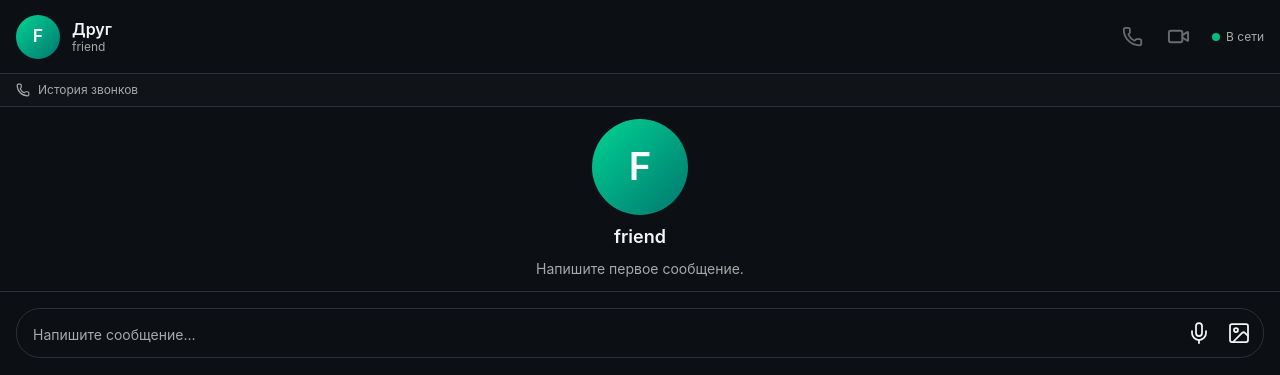
conversation › can drop an unsent message
This screenshot has width=1280, height=375.
Step 1. Type "спам" into the text box labelled "сообщение" → {"x": 604, "y": 335}, box [33,321,1175,349]
Then press Enter
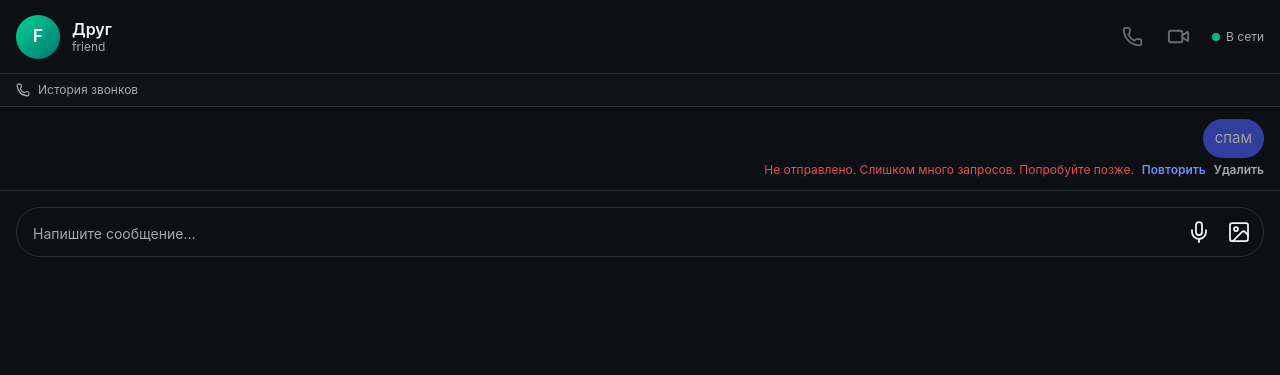
Expected: the message "Не отправлено. Слишком много запросов. Попробуйте позже. Повторить Удалить" is shown, [764,162,1264,178]
Step 2. Click the button "Удалить" → {"x": 1239, "y": 170}, box [1214,162,1264,178]
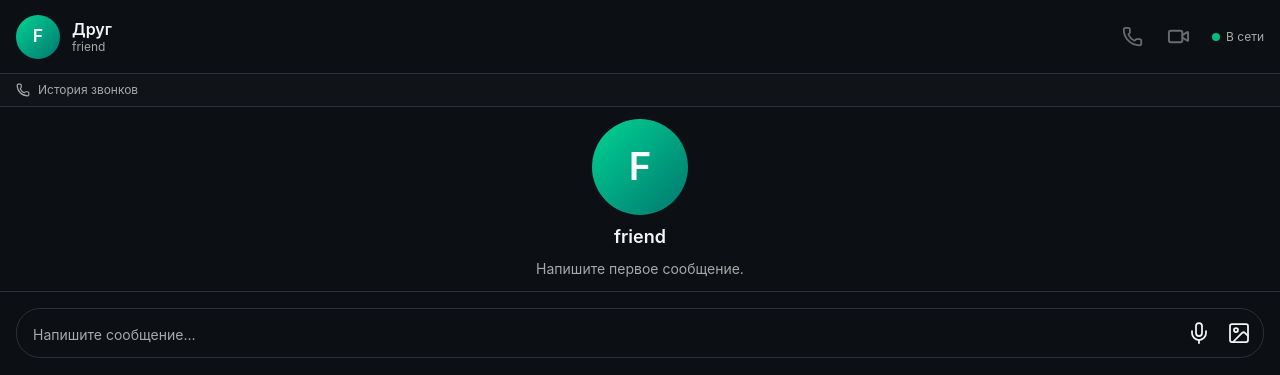
Expected: the text "спам" is gone
